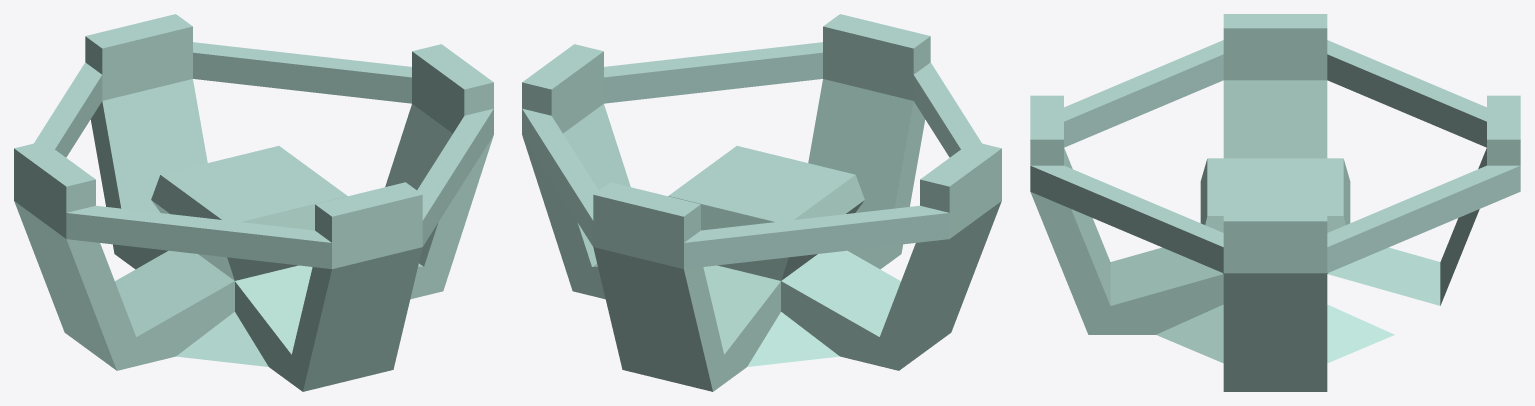
Rendered from fireBasket.glb.
The picture shows the model from 3 angles, left to right: view 1: azimuth 30°, elevation 25°; view 2: azimuth 150°, elevation 25°; view 3: azimuth 270°, elevation 25°; orthographic projection.
Visible parts, largest first — view 1: fireBasket(Clone); view 2: fireBasket(Clone); view 3: fireBasket(Clone).
Boxes of the visible parts, <box> form: fireBasket(Clone): <box>14,14,493,391</box>; fireBasket(Clone): <box>522,14,1001,391</box>; fireBasket(Clone): <box>1030,14,1520,391</box>.
Bounding box in the file's own units: 0.2731 × 0.12 × 0.2731.
